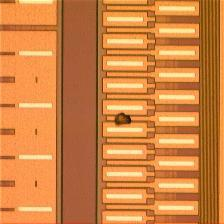PARTICLE: (113, 112, 135, 130)
